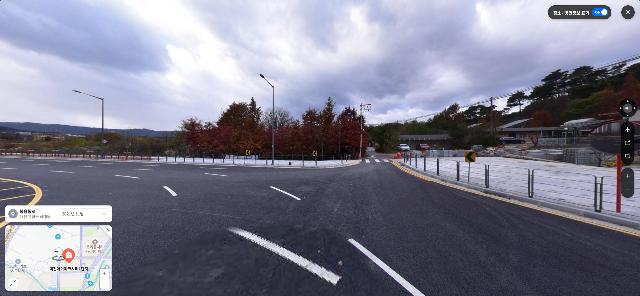other: (215, 96, 264, 160), (333, 105, 372, 159), (259, 105, 296, 159), (317, 96, 341, 159), (296, 108, 323, 159), (179, 116, 209, 159)
